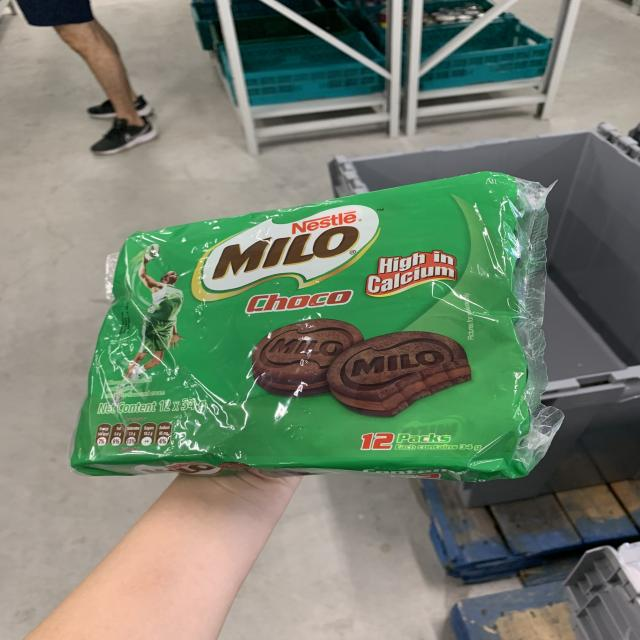object_name: (66, 188, 537, 476)
